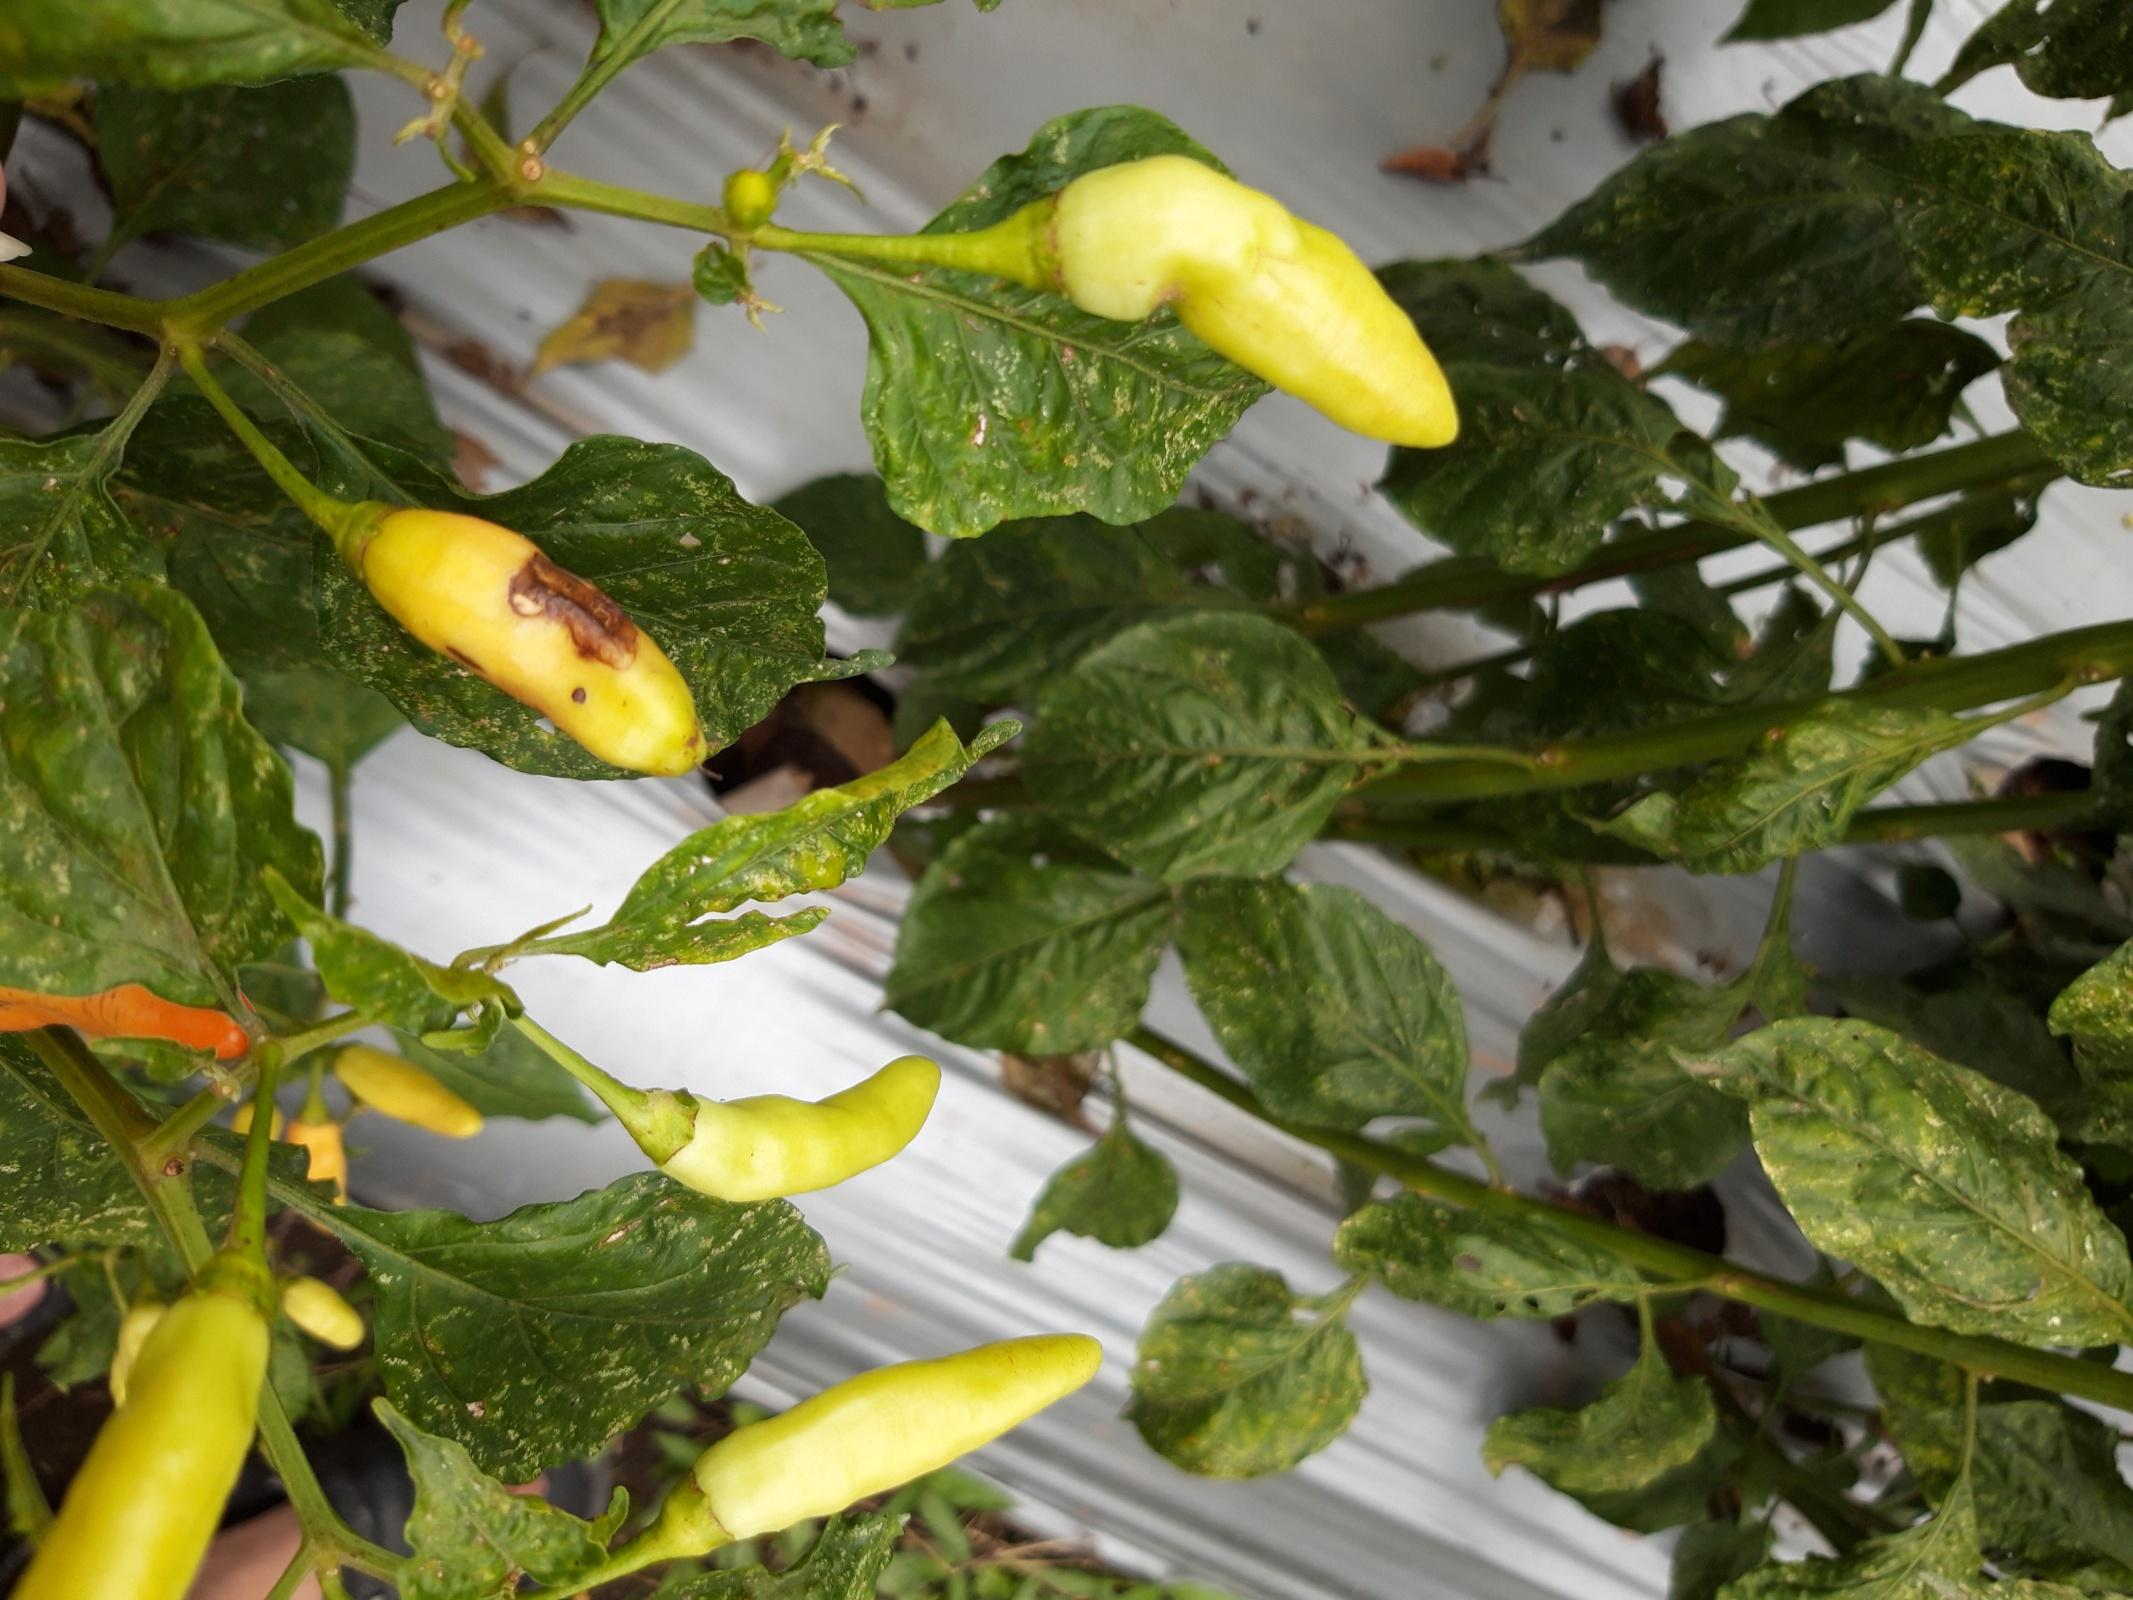cabai_normal: (1003, 151, 1461, 449), (659, 1333, 1098, 1555), (17, 1254, 279, 1600), (629, 1055, 941, 1202), (323, 1039, 481, 1143)
lalat_buah: (333, 497, 703, 765)
